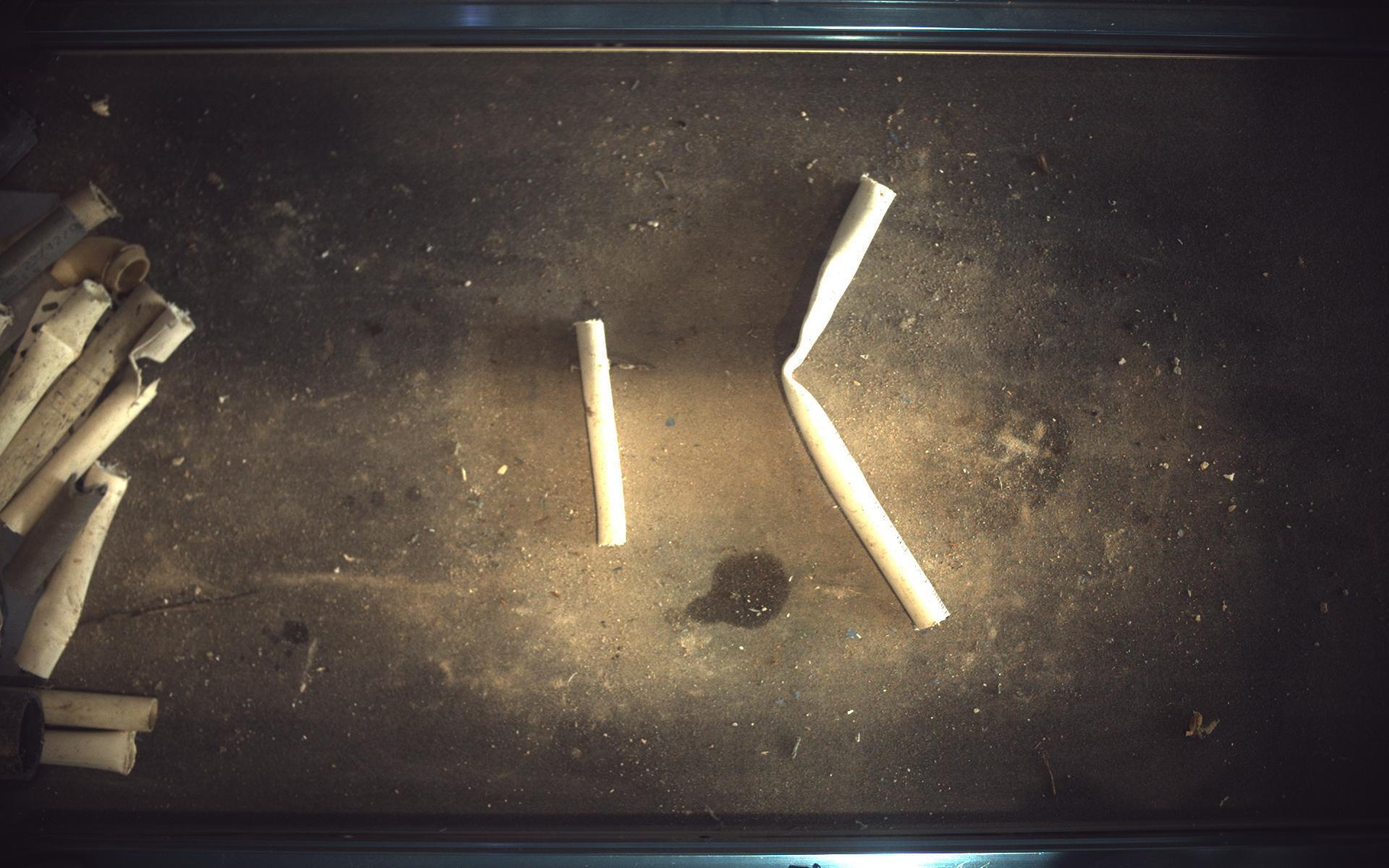pipes: (783, 173, 951, 630), (576, 319, 627, 546)
